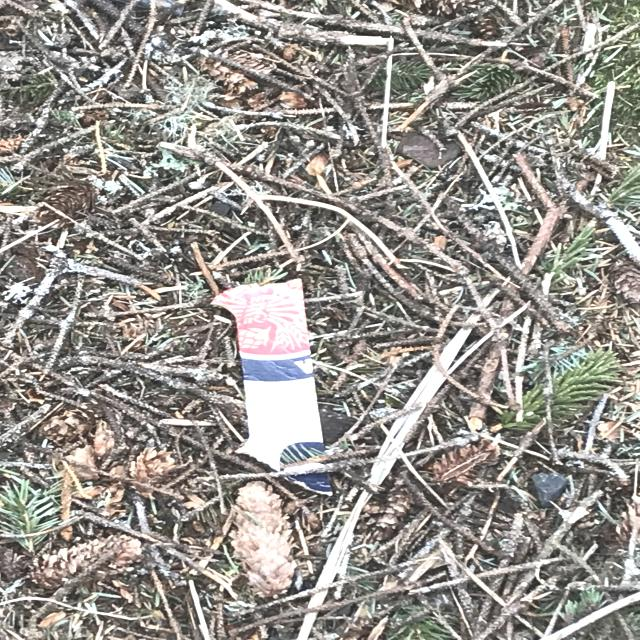Unlabeled litter: (209, 278, 333, 497)
